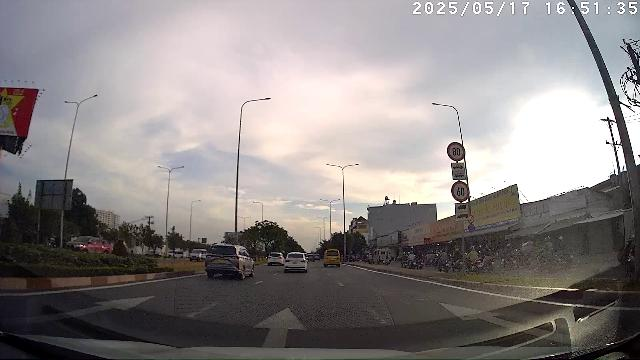127-toc-do-toi-da-60: (451, 181, 469, 202)
127-toc-do-toi-da-80: (446, 142, 466, 161)
